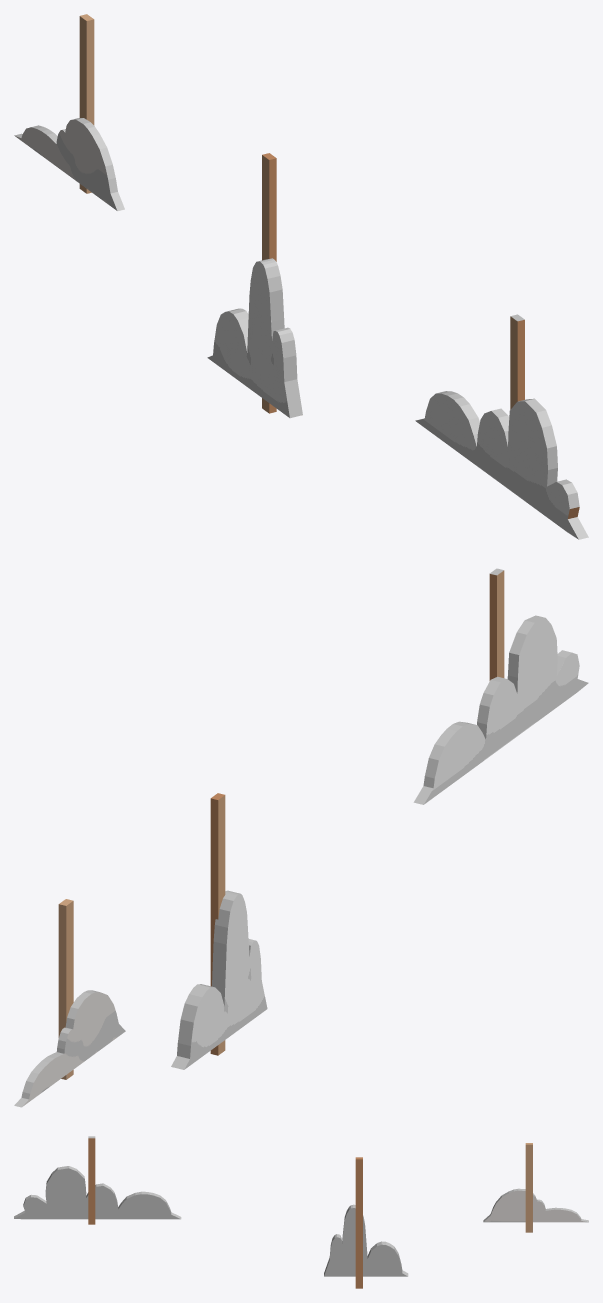
The model's file is clouds.fbx.
3 views of the same model, one above another, from view 1: azimuth 30°, elevation 25°; view 2: azimuth 150°, elevation 25°; view 3: azimuth 270°, elevation 25° (orthographic). The views are drawn at different scales.
Parts seen in each view (by area): view 1: cloud2, cloud3, cloud1; view 2: cloud2, cloud3, cloud1; view 3: cloud2, cloud3, cloud1.
Boxes of the visible parts, x1,y1,x2,y2 form: cloud2: (415,314,588,539); cloud3: (207,153,302,418); cloud1: (14,14,124,211); cloud2: (413,568,588,804); cloud3: (171,793,267,1069); cloud1: (14,899,125,1107); cloud2: (14,1136,181,1224); cloud3: (324,1157,408,1288); cloud1: (483,1143,588,1232).
Bounding box in the file's own units: 40.04 × 324 × 1151.
